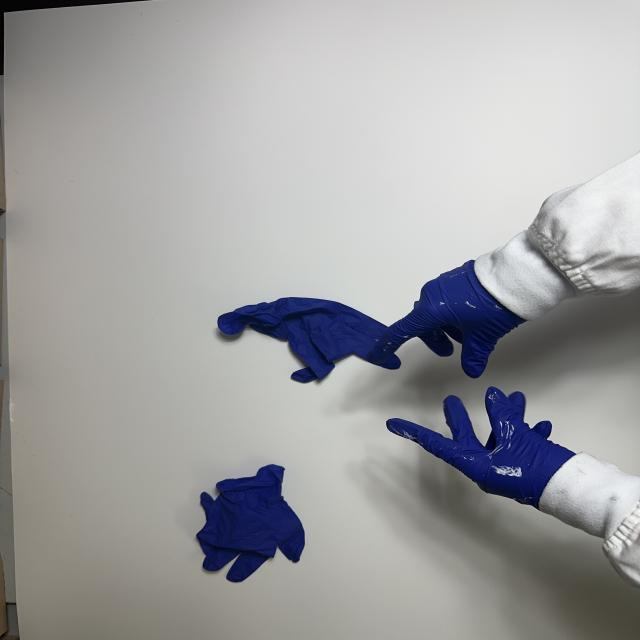gloves_contaminated: (391, 387, 575, 508), (369, 261, 525, 378)
